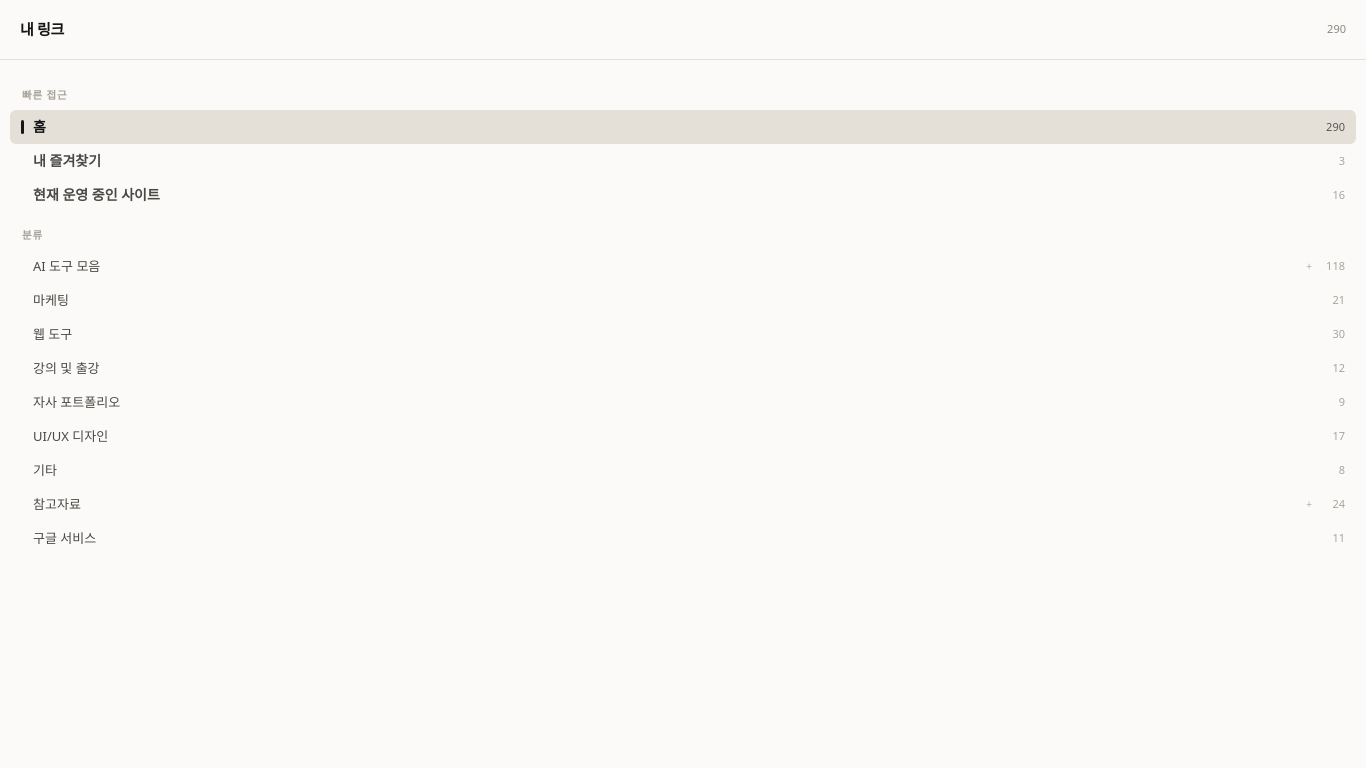
Scenario: Sidebar › 하위 펼침 토글 › 두 상위를 모두 펼치면 둘 다 열린 채로 남는다 (아코디언 아님)
Step 1. Click the button named "AI 도구 모음 하위 분류 펼치기" → (1309, 266), box 1304,250 -> 1314,284
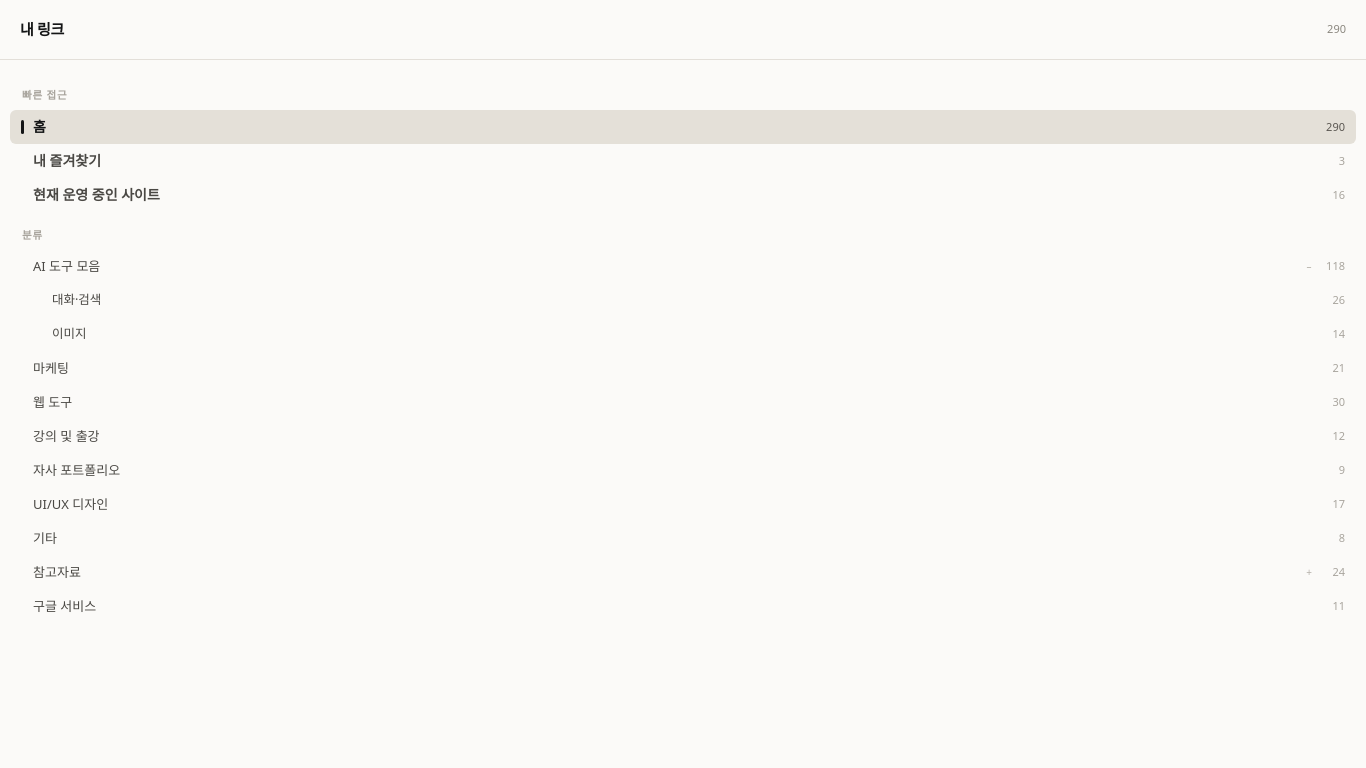
Step 2. Click the button named "참고자료 하위 분류 펼치기" → (1309, 572), box 1304,556 -> 1314,590
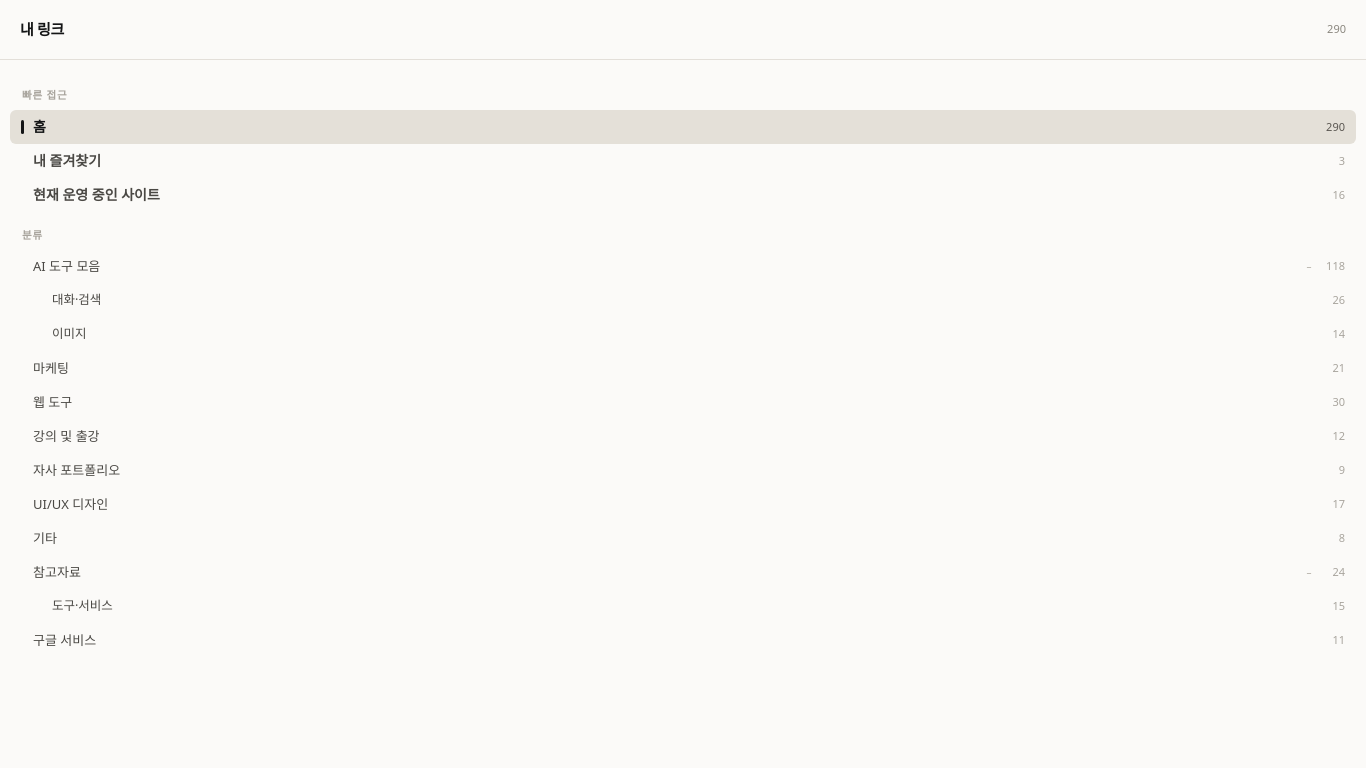
Expected: the link "대화·검색" is shown, 52,291 -> 101,308
Expected: the link "이미지" is shown, 52,325 -> 86,342
Expected: the link "도구·서비스" is shown, 52,597 -> 113,614
